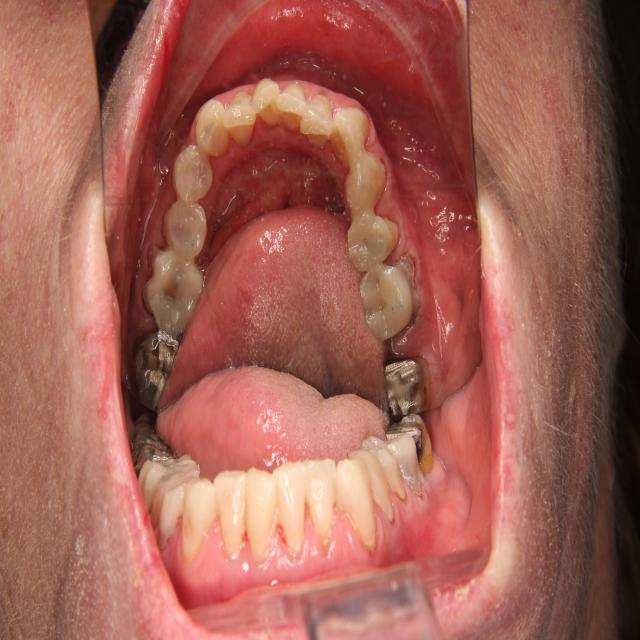tooth: (134, 240, 210, 342), (354, 247, 424, 346), (126, 327, 182, 417), (374, 349, 437, 418), (158, 195, 216, 266), (344, 208, 401, 277), (166, 143, 219, 205), (342, 149, 387, 217), (329, 98, 370, 168), (194, 92, 232, 164), (219, 87, 259, 151), (298, 89, 333, 153), (275, 77, 308, 138), (250, 76, 284, 131)
